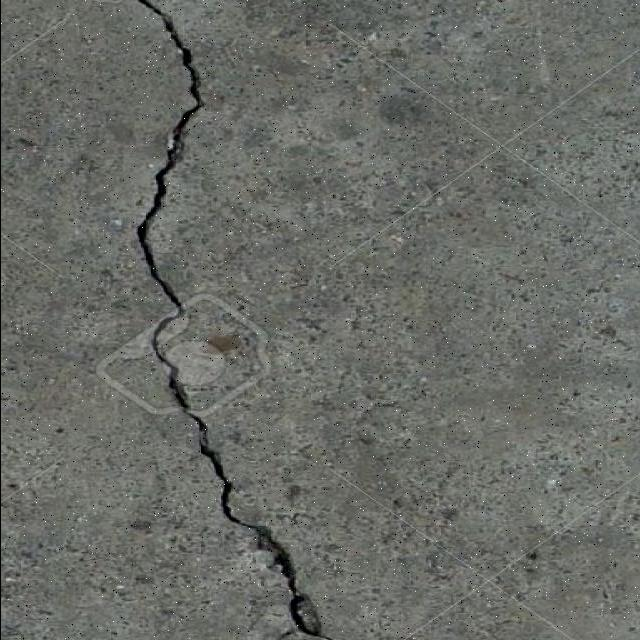crack: (120, 0, 330, 637), (7, 428, 631, 640), (128, 5, 210, 336), (155, 8, 205, 129), (127, 1, 224, 59)
